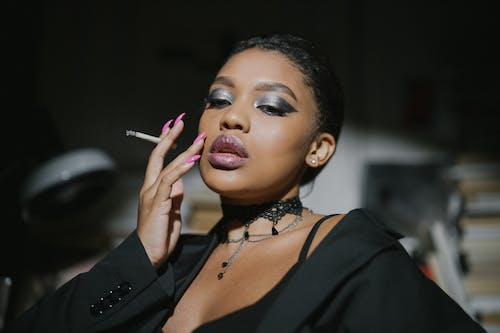cigarette: (124, 128, 178, 152)
